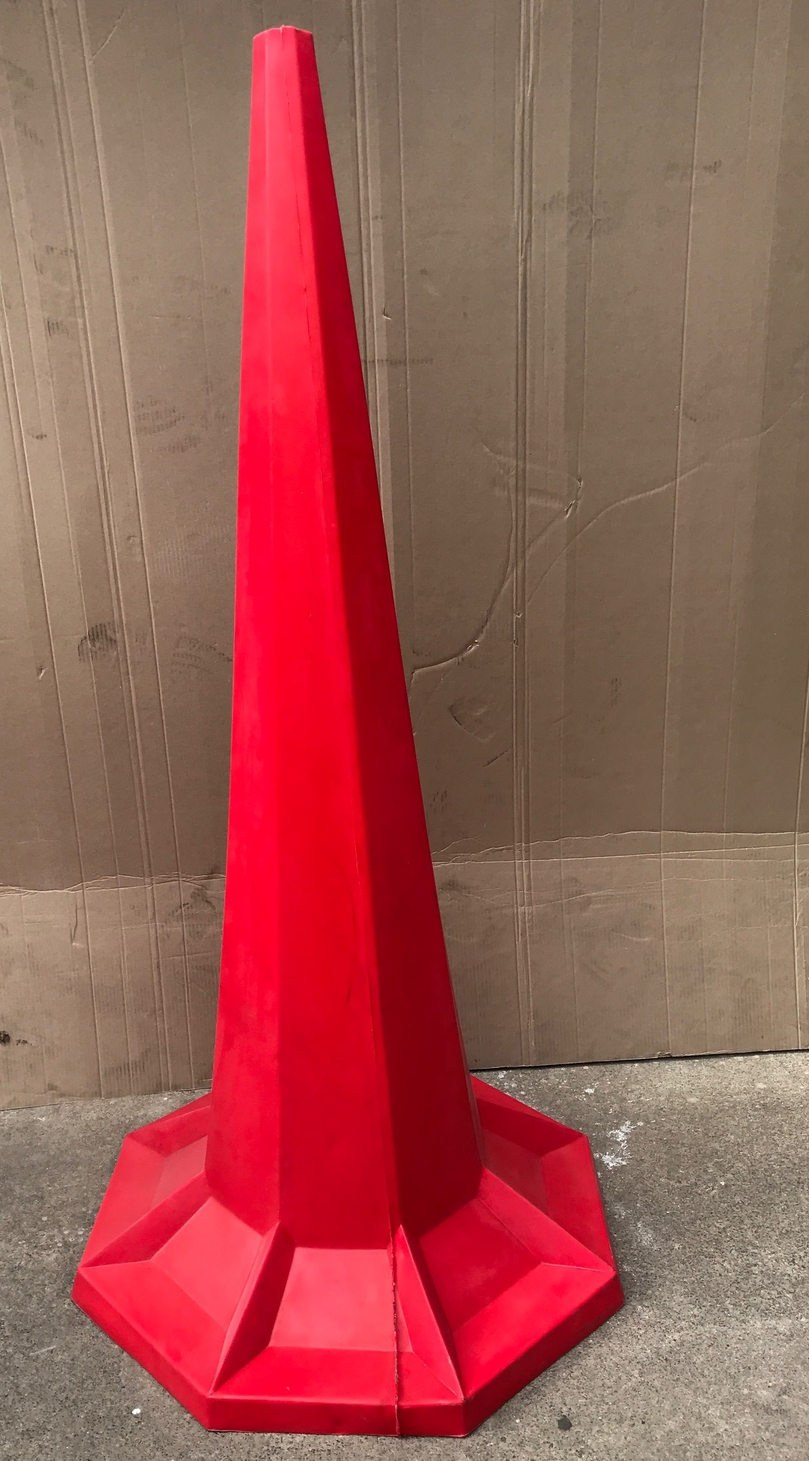Road_cone: (82, 29, 605, 1434)
